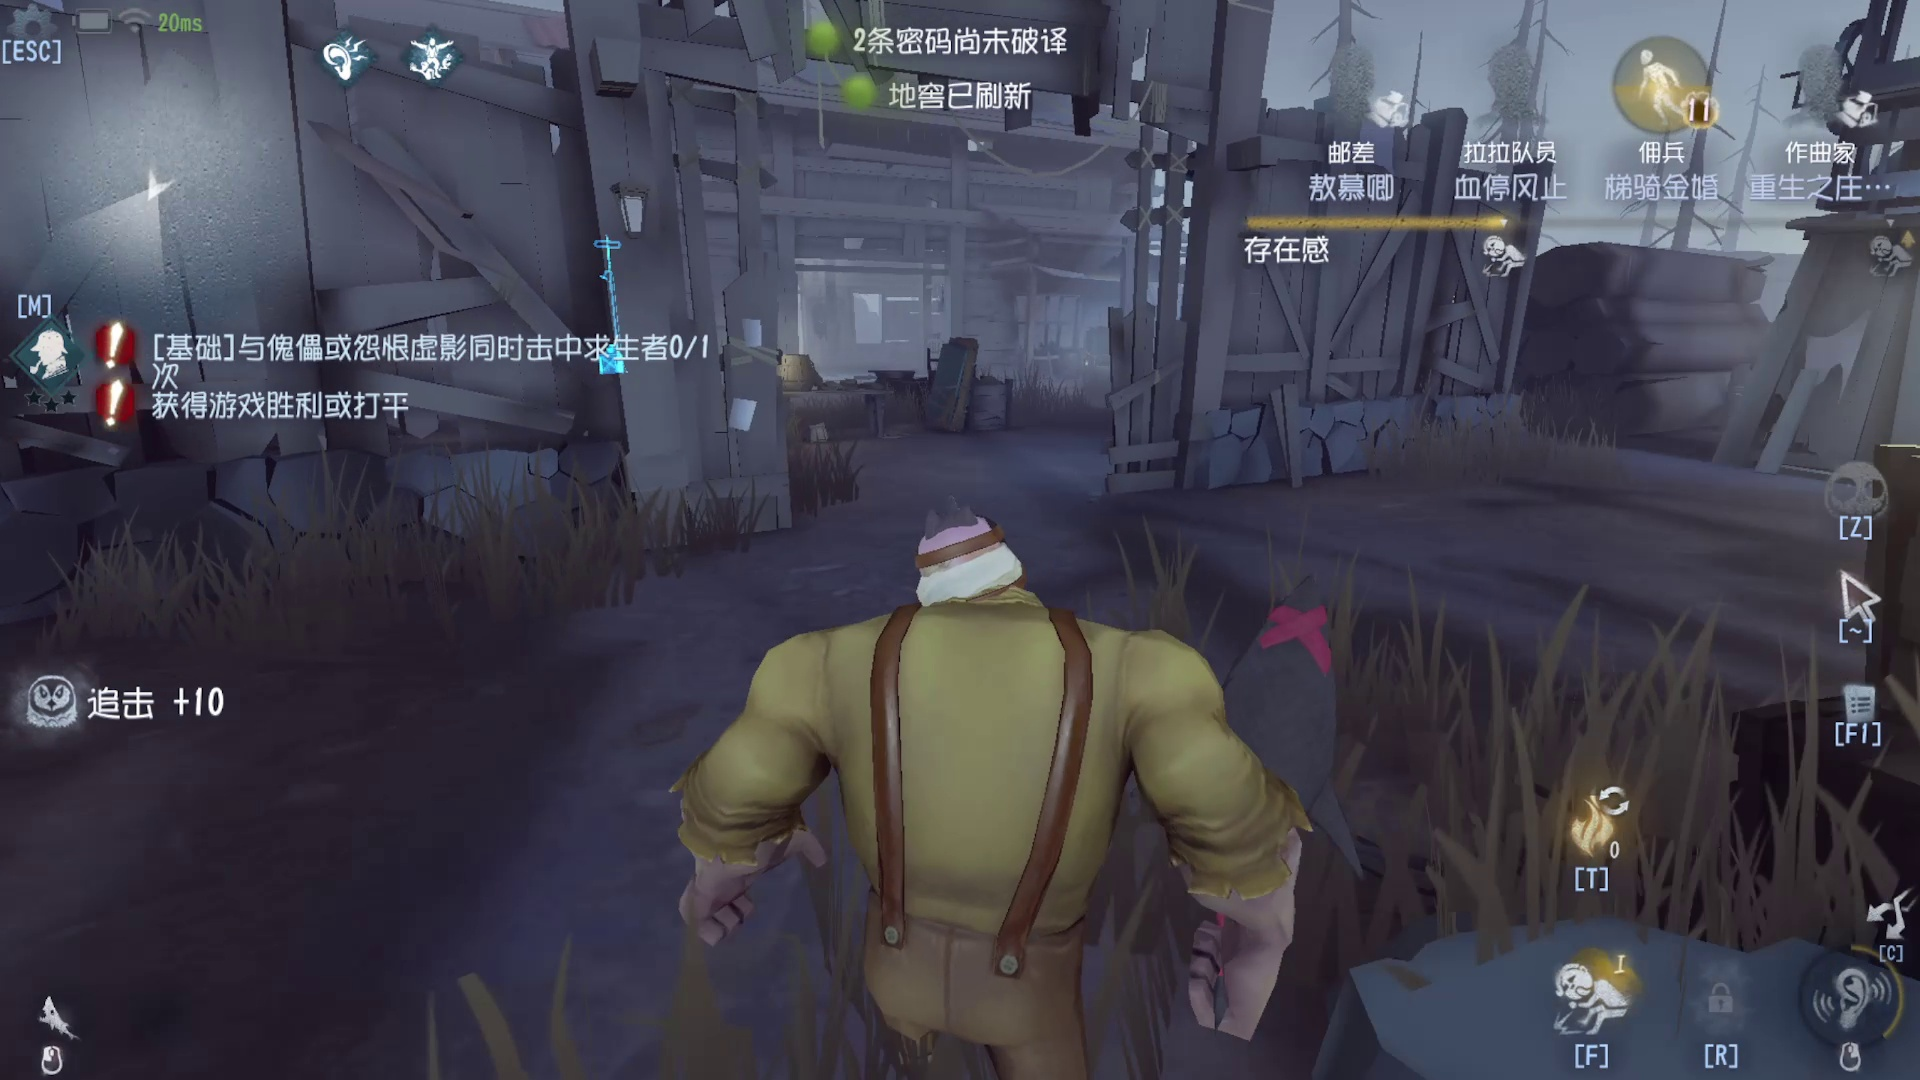密码机: (582, 211, 651, 415)
木板: (923, 319, 982, 433)
